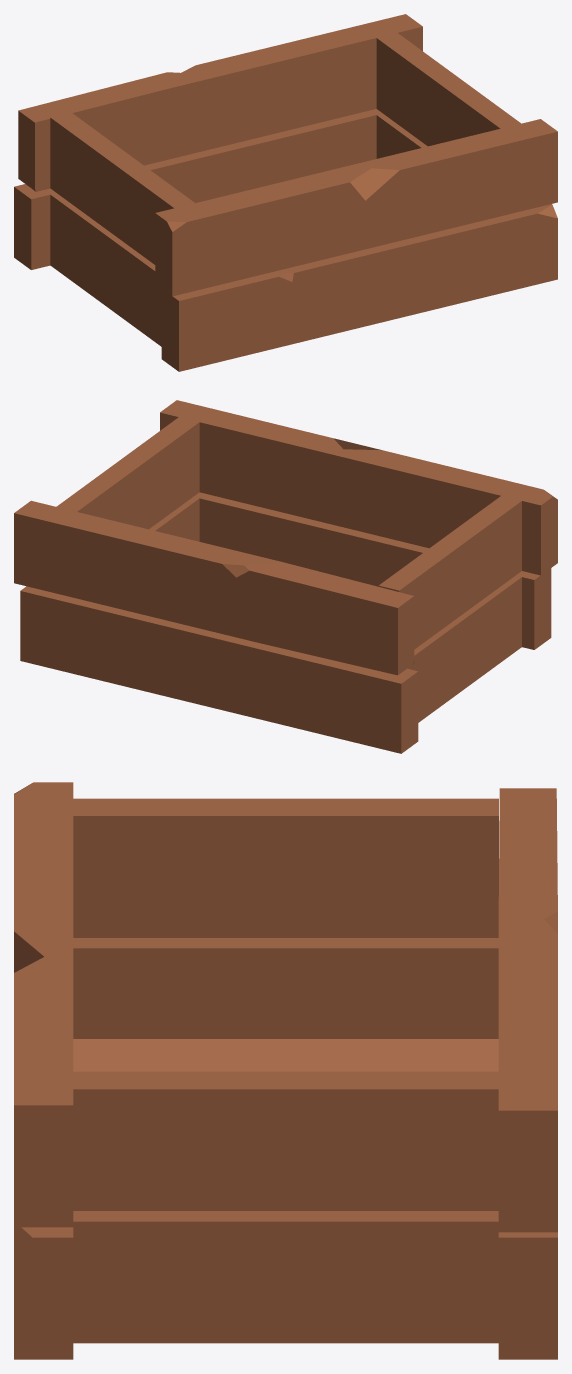
File: wood_box.glb
The picture shows the model from 3 angles, top to bottom: view 1: azimuth 30°, elevation 25°; view 2: azimuth 150°, elevation 25°; view 3: azimuth 270°, elevation 25°; orthographic projection. The views are drawn at different scales.
Parts seen in each view (by area): view 1: wood_box; view 2: wood_box; view 3: wood_box.
Part boxes in pixels (x1=…): wood_box: x1=14, y1=14, x2=557, y2=371; wood_box: x1=14, y1=400, x2=557, y2=753; wood_box: x1=14, y1=782, x2=557, y2=1359.
Bounding box in the file's own units: 0.4173 × 0.1506 × 0.2922.
1 material, 1 textured.
